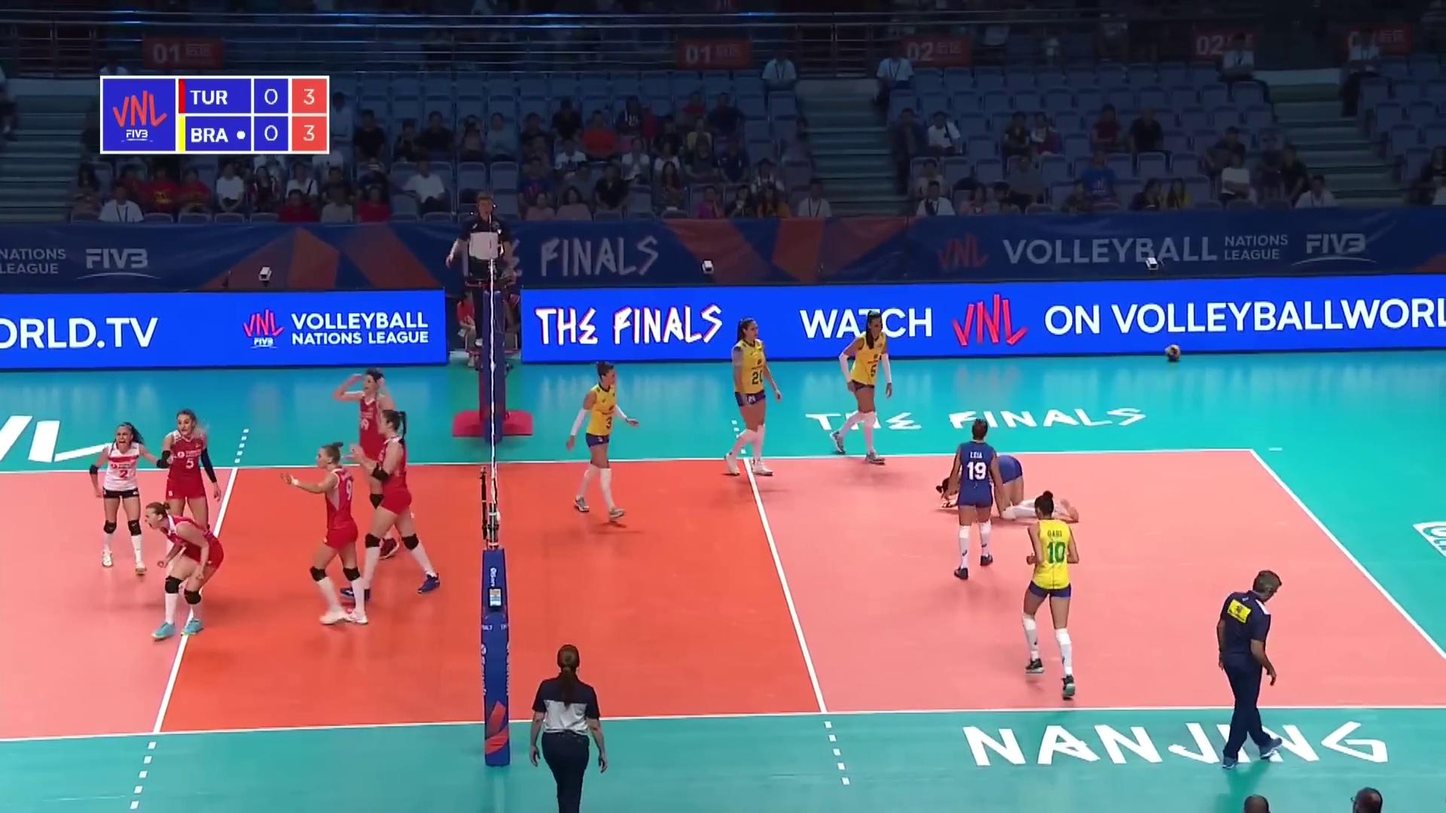player: (343, 407, 444, 595), (334, 370, 416, 556), (287, 444, 370, 626), (564, 358, 640, 526), (89, 422, 167, 574), (1024, 494, 1079, 695), (163, 410, 224, 591), (147, 503, 224, 640), (936, 452, 1080, 522), (830, 312, 895, 465), (726, 314, 780, 477), (949, 418, 1000, 578)
refree: (531, 646, 604, 810), (450, 193, 512, 343)
